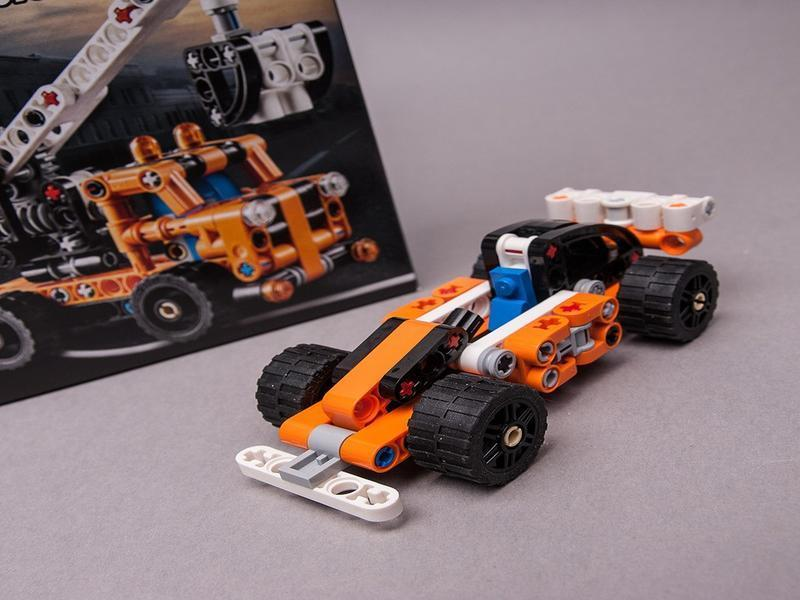f1: (229, 122, 796, 534)
